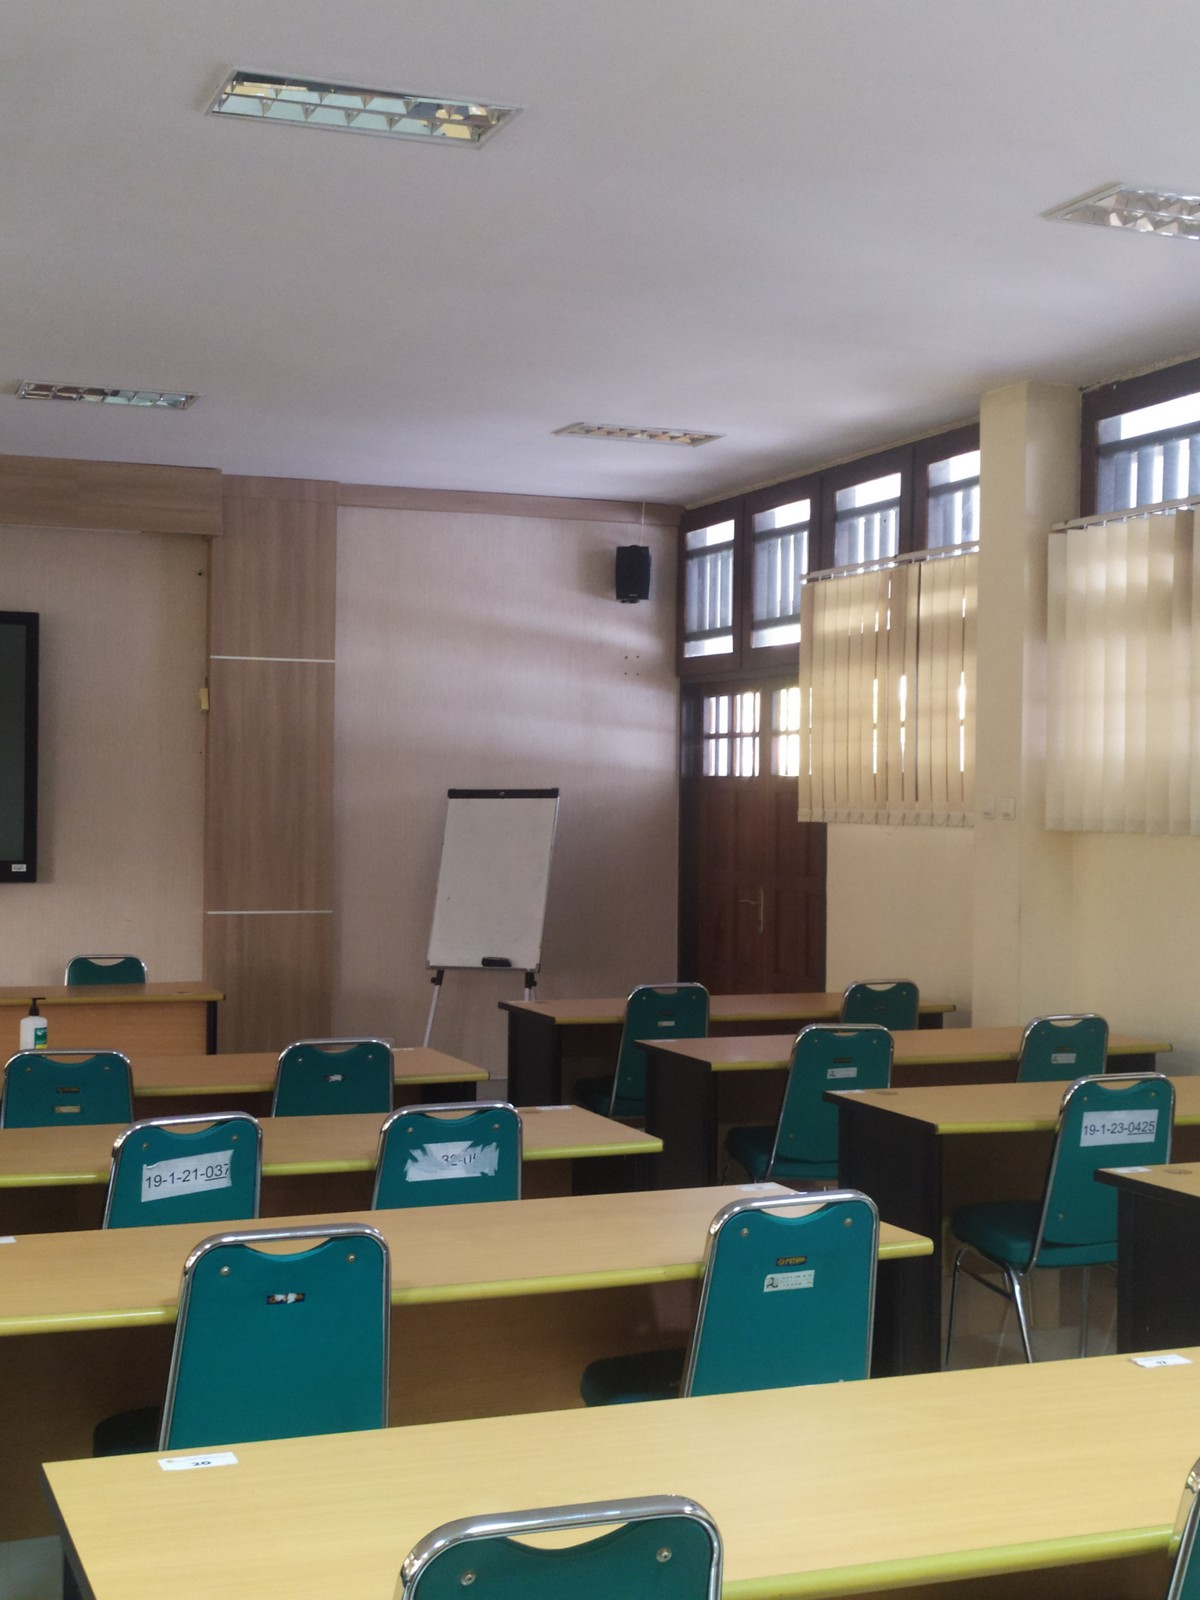concrete column: (967, 374, 1095, 1020)
